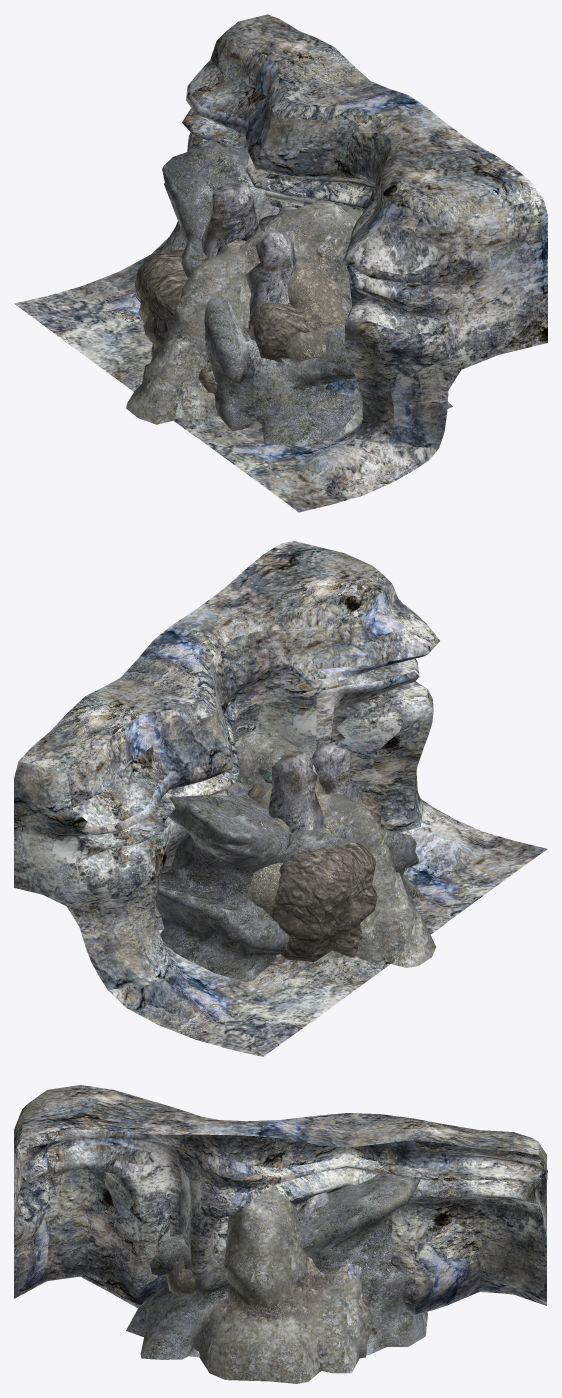
File: cave_rocks_kit.glb
3 renders of one model, top to bottom at view 1: azimuth 30°, elevation 25°; view 2: azimuth 150°, elevation 25°; view 3: azimuth 270°, elevation 25°, orthographic. The views are drawn at different scales.
Parts seen in each view (by area): view 1: cave_cliff_01, cave_cliff_edge_01, cave_rock_face_01, cave_rock_modular_01, cave_rock_pile_01, cave_pit_rock_01; view 2: cave_cliff_01, cave_cliff_edge_01, cave_rock_face_01, cave_rock_modular_01, cave_rock_pile_01, cave_pit_rock_01; view 3: cave_cliff_01, cave_rock_face_01, cave_cliff_edge_01, cave_pit_rock_01, cave_rock_pile_01.
Part boxes in pixels (box(x1,y1,x2,y2)): cave_cliff_01: box(14, 14, 547, 512); cave_cliff_edge_01: box(162, 139, 452, 446); cave_rock_face_01: box(126, 202, 362, 424); cave_rock_modular_01: box(135, 249, 350, 394); cave_rock_pile_01: box(201, 183, 296, 427); cave_pit_rock_01: box(183, 240, 347, 361); cave_cliff_01: box(14, 541, 547, 1056); cave_cliff_edge_01: box(155, 789, 423, 981); cave_rock_face_01: box(233, 729, 435, 967); cave_rock_modular_01: box(271, 794, 381, 961); cave_rock_pile_01: box(227, 742, 359, 963); cave_pit_rock_01: box(241, 798, 326, 915); cave_cliff_01: box(14, 1085, 547, 1314); cave_rock_face_01: box(194, 1186, 373, 1383); cave_cliff_edge_01: box(121, 1172, 427, 1359); cave_pit_rock_01: box(165, 1248, 319, 1295); cave_rock_pile_01: box(300, 1192, 361, 1278).
Bounding box in the file's own units: 6 × 5.05 × 10.
14 materials, 14 textured.
